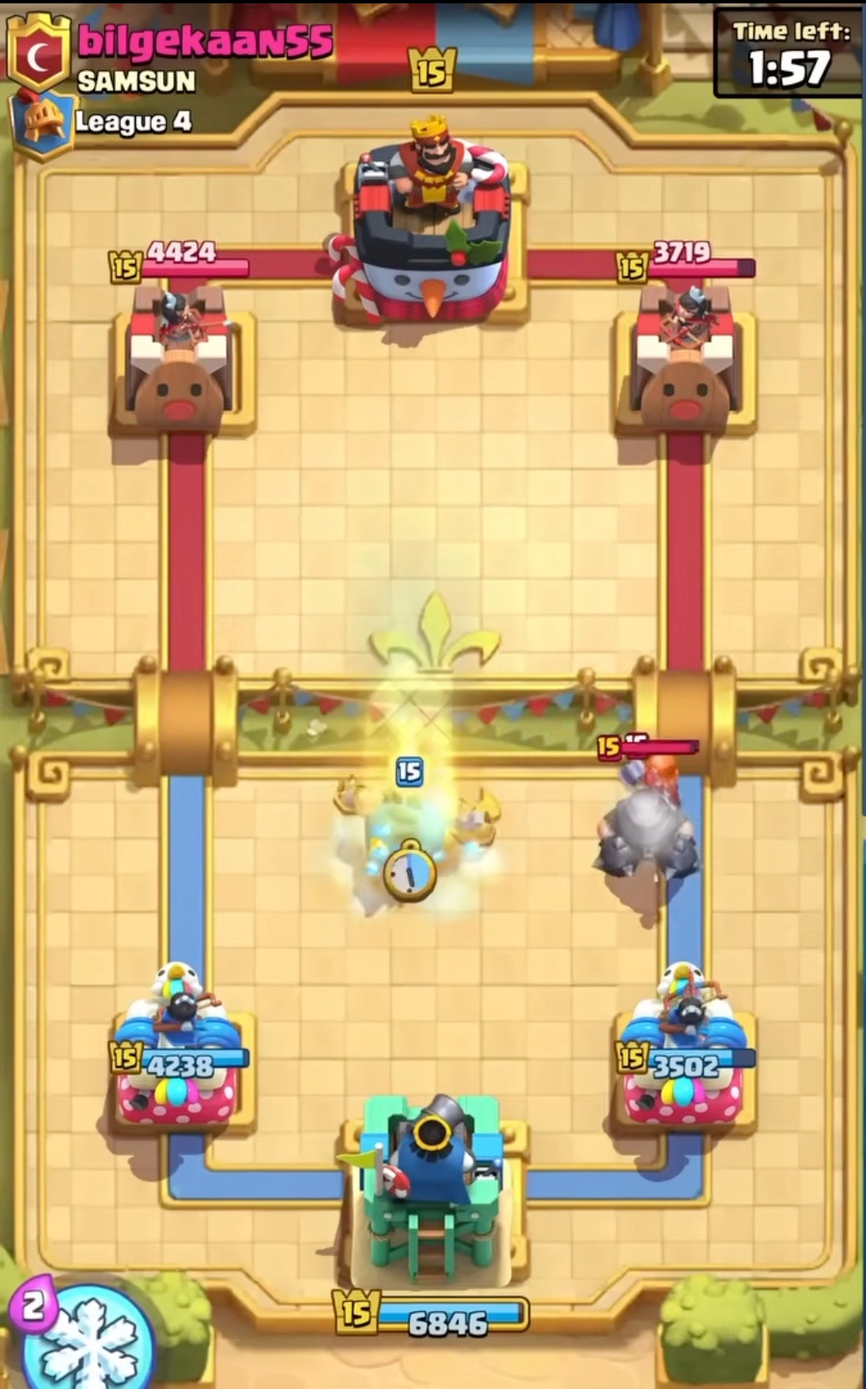hero_ice_golem: (325, 761, 513, 914)
